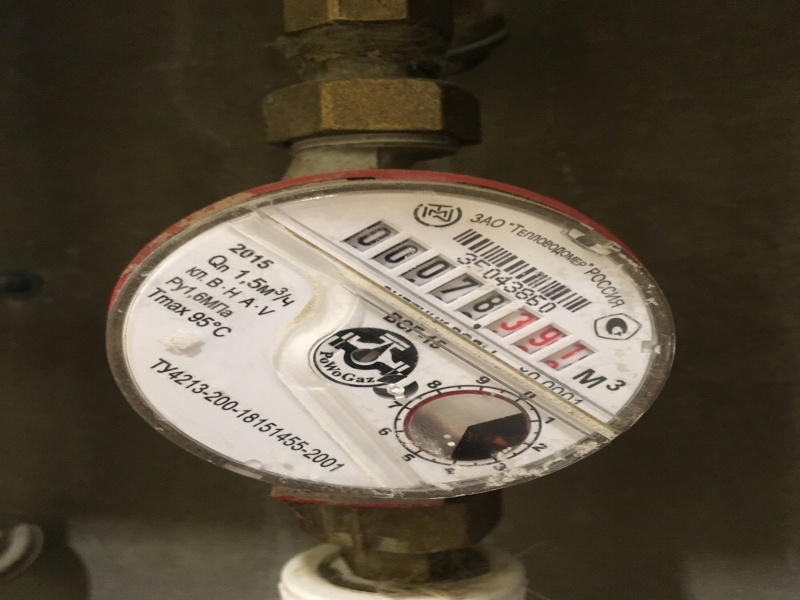meter: (365, 276, 609, 338)
